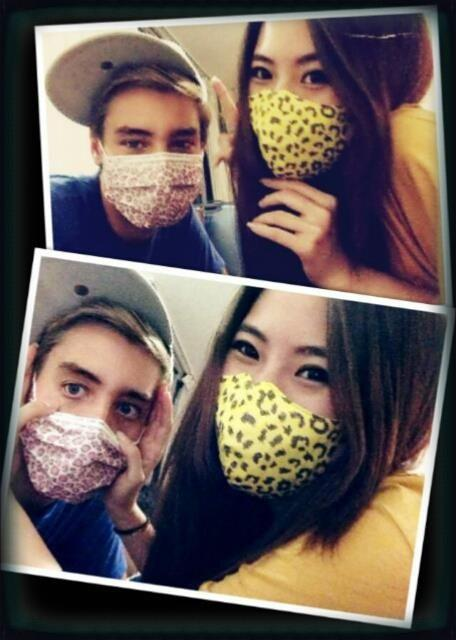OK: (221, 316, 388, 483), (24, 357, 151, 501), (249, 48, 363, 180), (103, 109, 204, 222)
